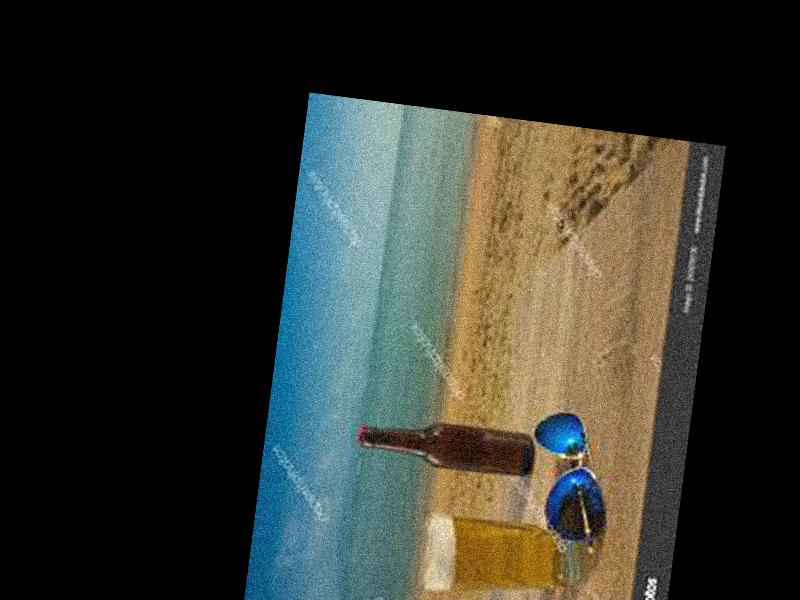Beer: (355, 412, 534, 478)
